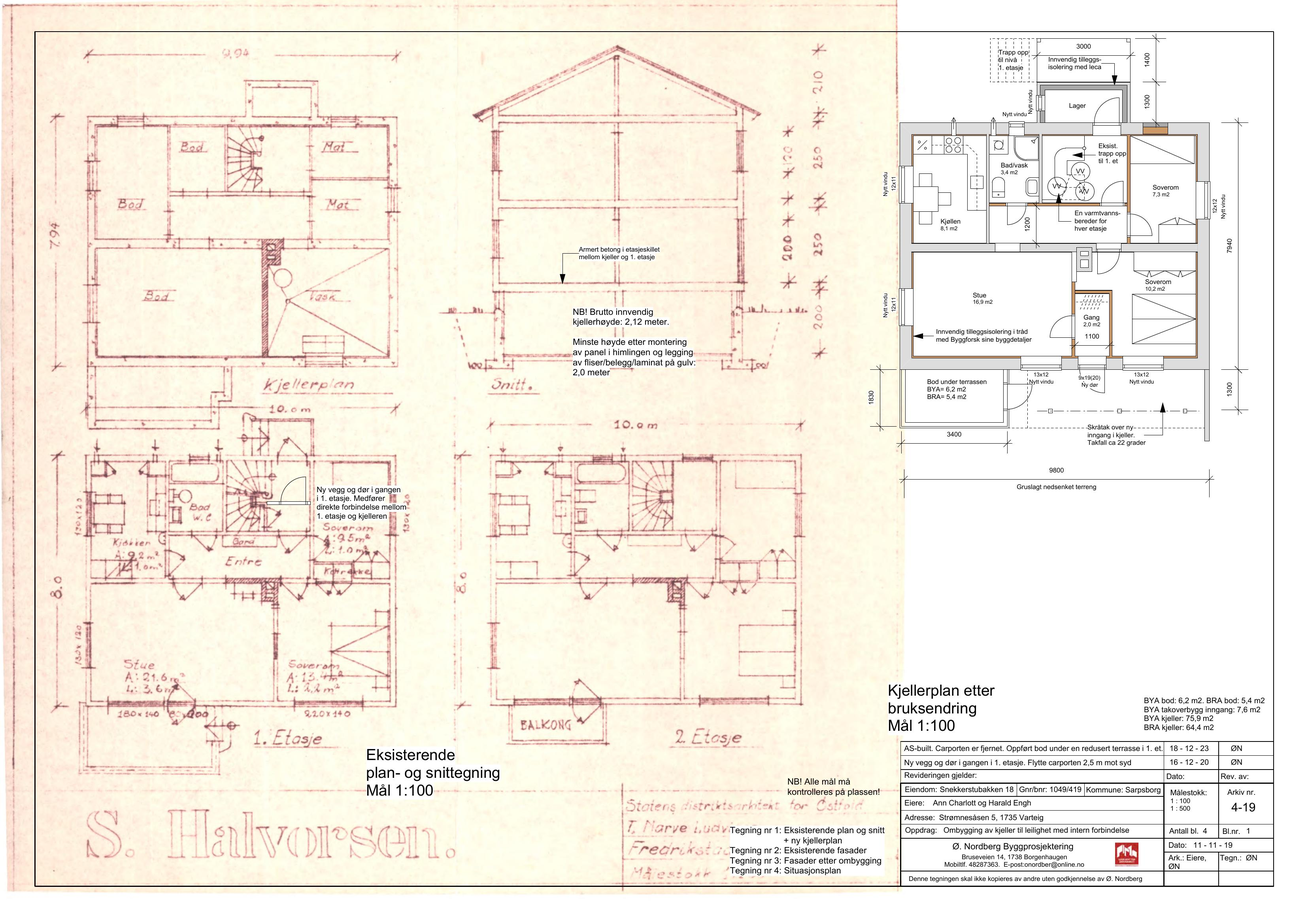plantegning: (898, 38, 1211, 443), (83, 413, 398, 777), (86, 79, 398, 430), (489, 454, 806, 745)
snitt: (473, 45, 761, 371)
